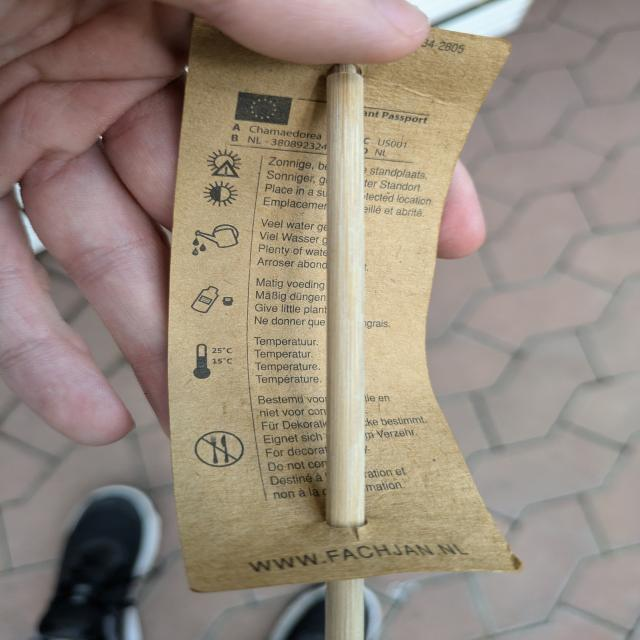dungen: (186, 278, 242, 327)
halb sonnig schattig: (190, 177, 243, 211)
keine Sonne: (198, 144, 255, 182)
viel giesen: (184, 217, 247, 261)
